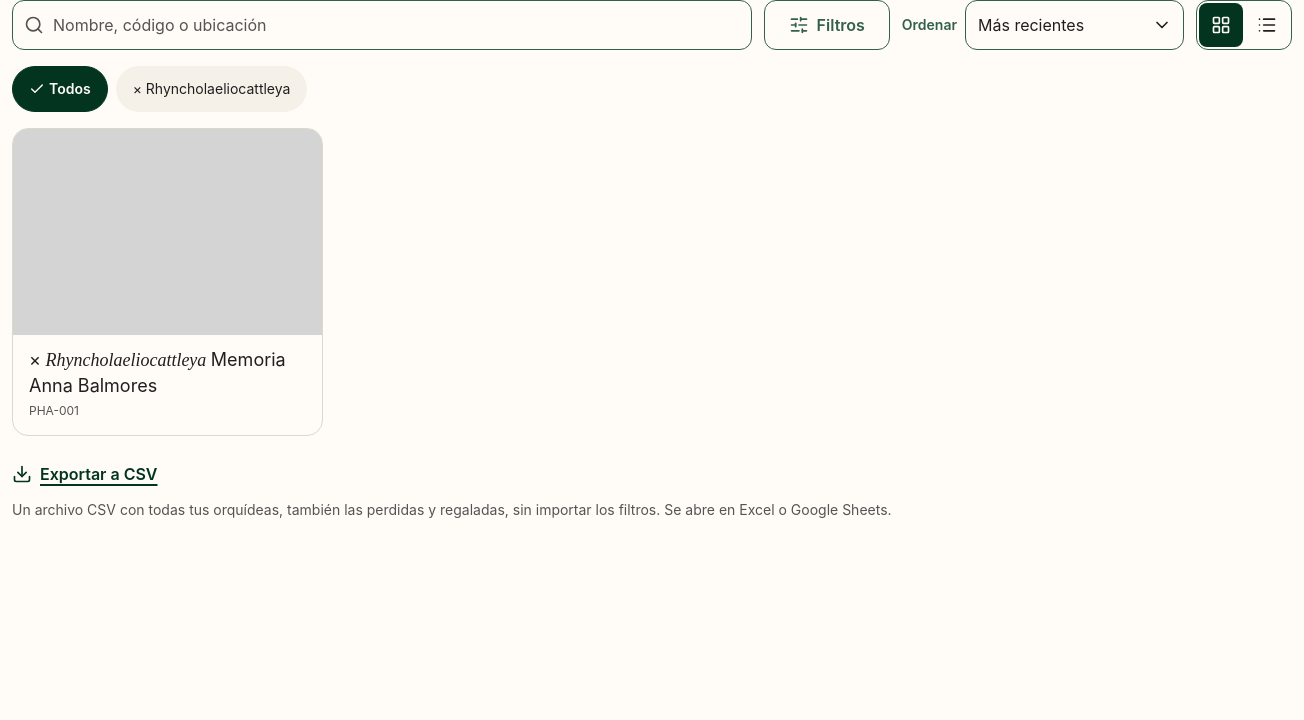
InventoryView: filtros › un grupo sin opciones no aparece
The image size is (1304, 720).
Step 1. Click the button "Filtros" → click(827, 25), box [764,0,890,50]
(page scrolled)
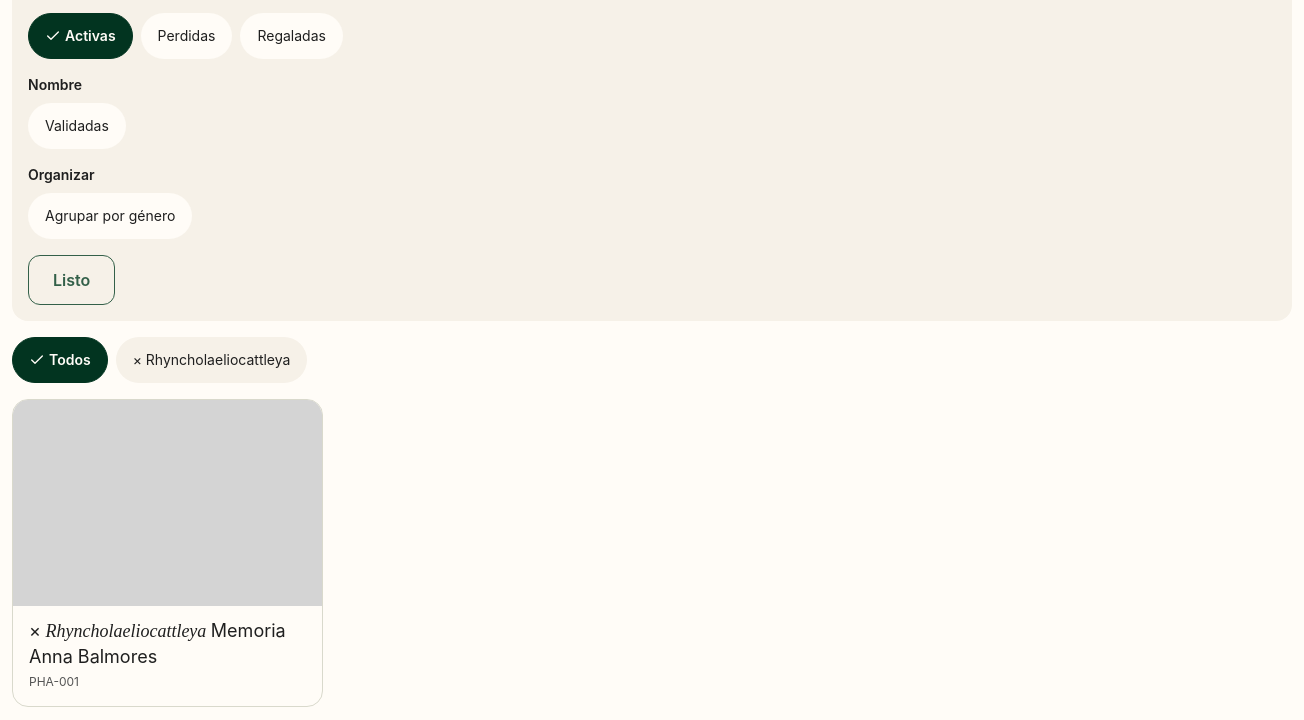
Expected: the element named "Género" is shown, [12,337,307,383]
Expected: the element named "Estado" is shown, [28,13,343,59]
